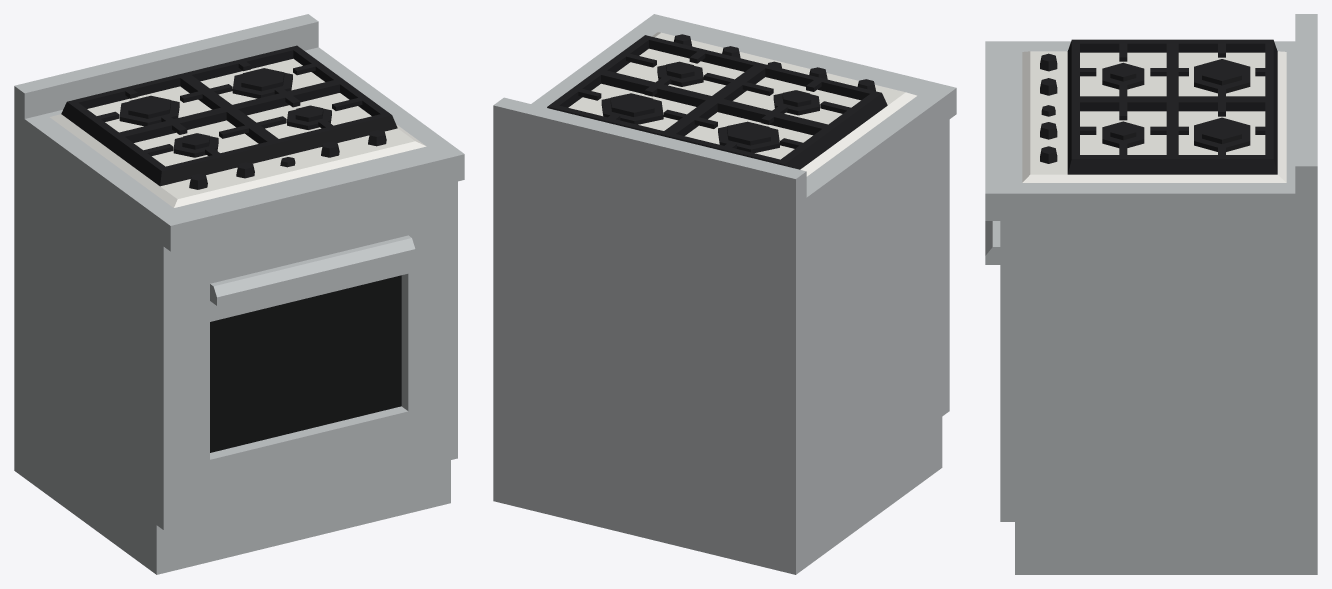
File: pk_range_steel.glb
The picture shows the model from 3 angles, left to right: view 1: azimuth 30°, elevation 25°; view 2: azimuth 150°, elevation 25°; view 3: azimuth 270°, elevation 25°; orthographic projection. The views are drawn at different scales.
Parts seen in each view (by area): view 1: pk_range_steel; view 2: pk_range_steel; view 3: pk_range_steel.
Boxes of the visible parts, box(x1,y1,x2,y2) form: pk_range_steel: box(14, 14, 464, 574); pk_range_steel: box(493, 14, 956, 574); pk_range_steel: box(985, 14, 1317, 574).
Bounding box in the file's own units: 0.76 × 0.95 × 0.7.
Materials: 1 (1 with a texture image).
